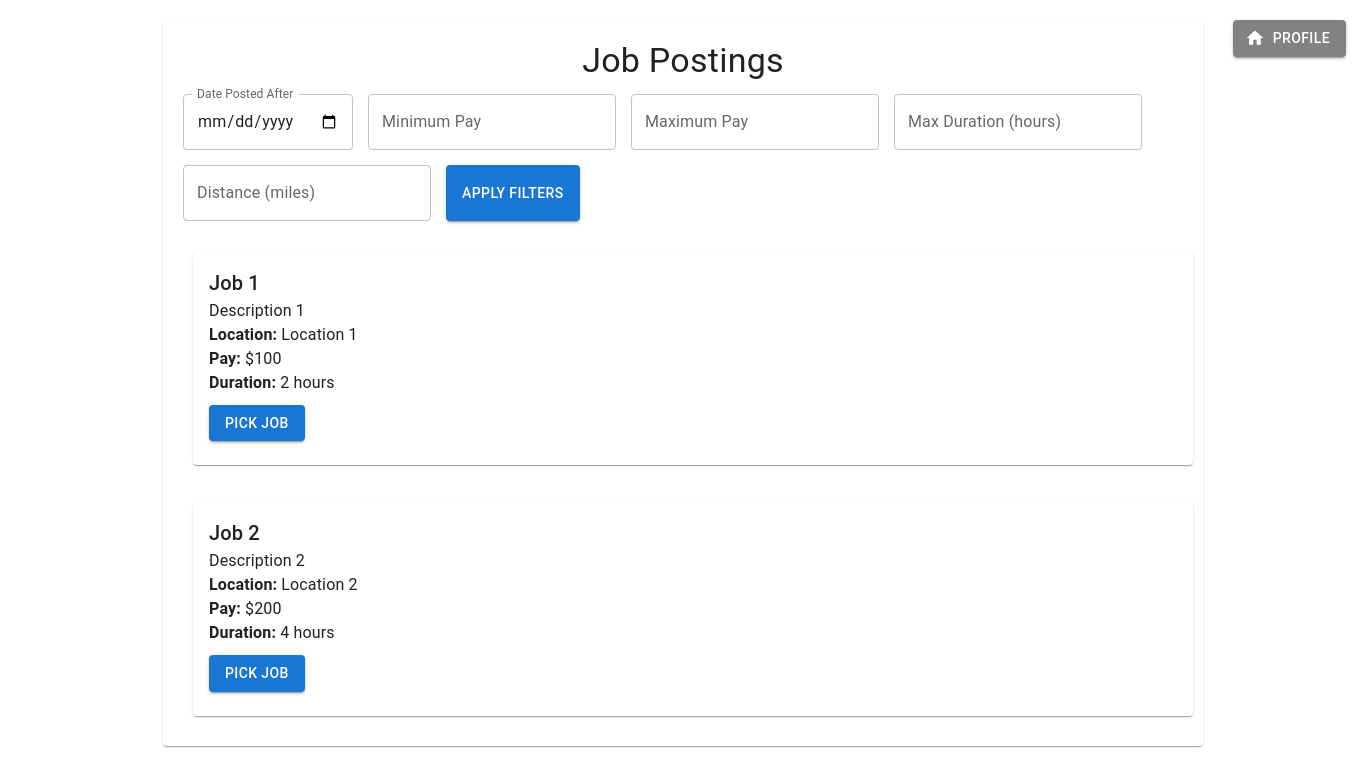
allows user to pick a job
Click the button "Pick Job" below "100": (257, 423) left=209, top=405, right=305, bottom=441
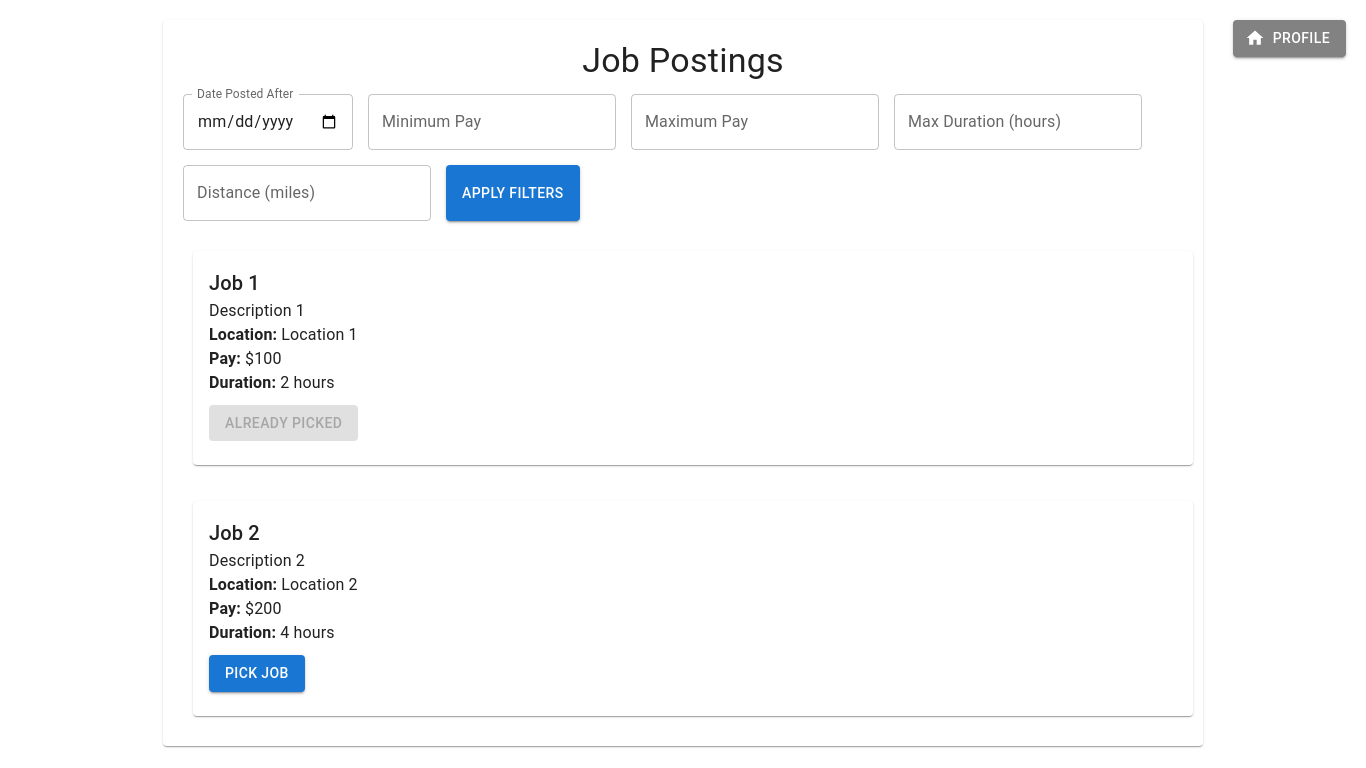
Check: the button "Already Picked" is shown, box left=209, top=405, right=358, bottom=441
